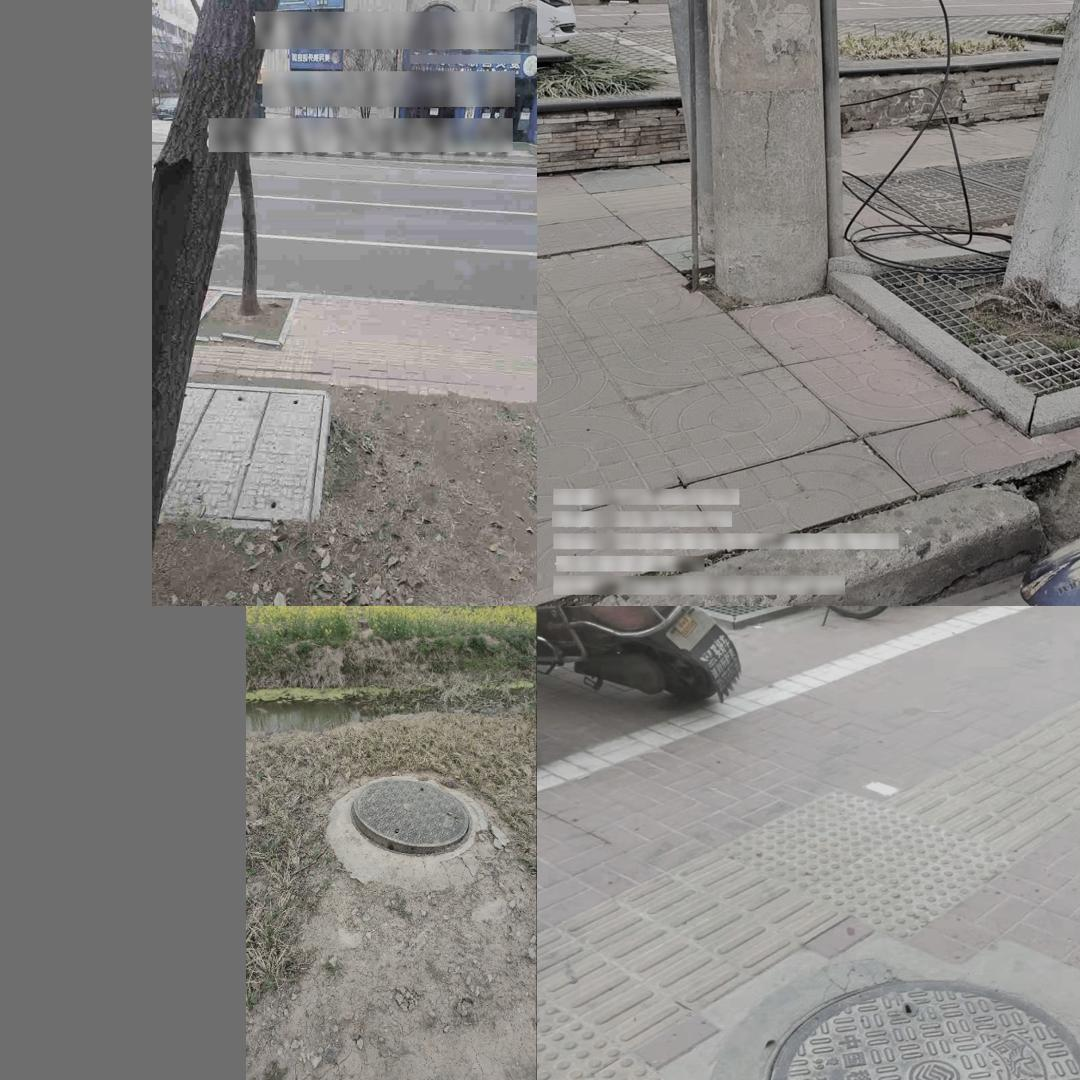good: (761, 977, 1080, 1080), (152, 382, 331, 530), (842, 153, 1080, 230), (351, 780, 474, 855)
